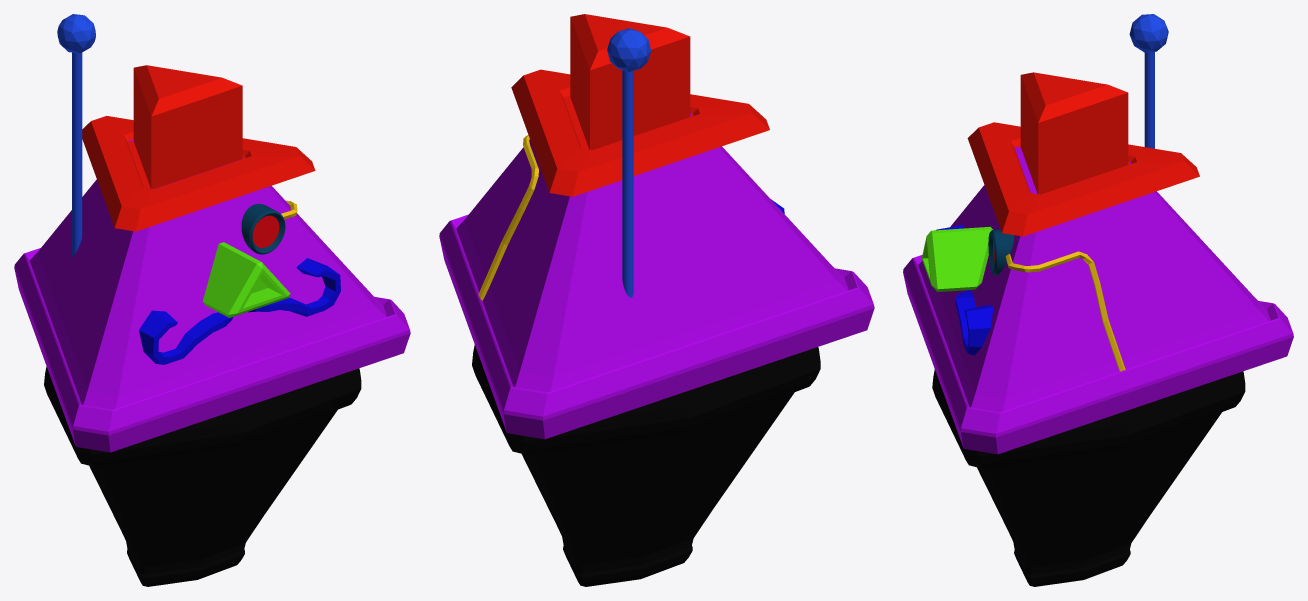
Rendered from enemy shooter.fbx.
3 views of the same model, side by side, from view 1: azimuth 30°, elevation 25°; view 2: azimuth 150°, elevation 25°; view 3: azimuth 270°, elevation 25° (orthographic). The views are drawn at different scales.
Parts seen in each view (by area): view 1: Cone.002, Cone.001, Cone.003, Cube, Cylinder, Cube.001, Cube.002, Cylinder.001, Cylinder.003; view 2: Cone.002, Cone.001, Cone.003, Cylinder, Cylinder.002; view 3: Cone.002, Cone.001, Cone.003, Cube, Cylinder, Cube.002, Cylinder.002, Cylinder.001.
Part boxes in pixels (x1,y1,x2,y2): Cone.002: (14,139,410,452); Cone.001: (44,366,361,586); Cone.003: (82,65,315,231); Cube: (202,242,290,317); Cylinder: (57,14,95,257); Cube.001: (139,310,232,364); Cube.002: (248,258,340,316); Cylinder.001: (241,204,285,254); Cylinder.003: (252,215,279,247); Cone.002: (439,113,874,439); Cone.001: (472,345,820,586); Cone.003: (511,14,769,196); Cylinder: (607,28,651,297); Cylinder.002: (478,135,538,300); Cone.002: (903,147,1293,454); Cone.001: (932,369,1245,586); Cone.003: (967,72,1199,236); Cube: (921,226,992,291); Cylinder: (1129,14,1168,148); Cube.002: (955,290,993,355); Cylinder.002: (1005,251,1125,371); Cylinder.001: (988,229,1014,275).
Bounding box in the file's own units: 324 × 451 × 306.
